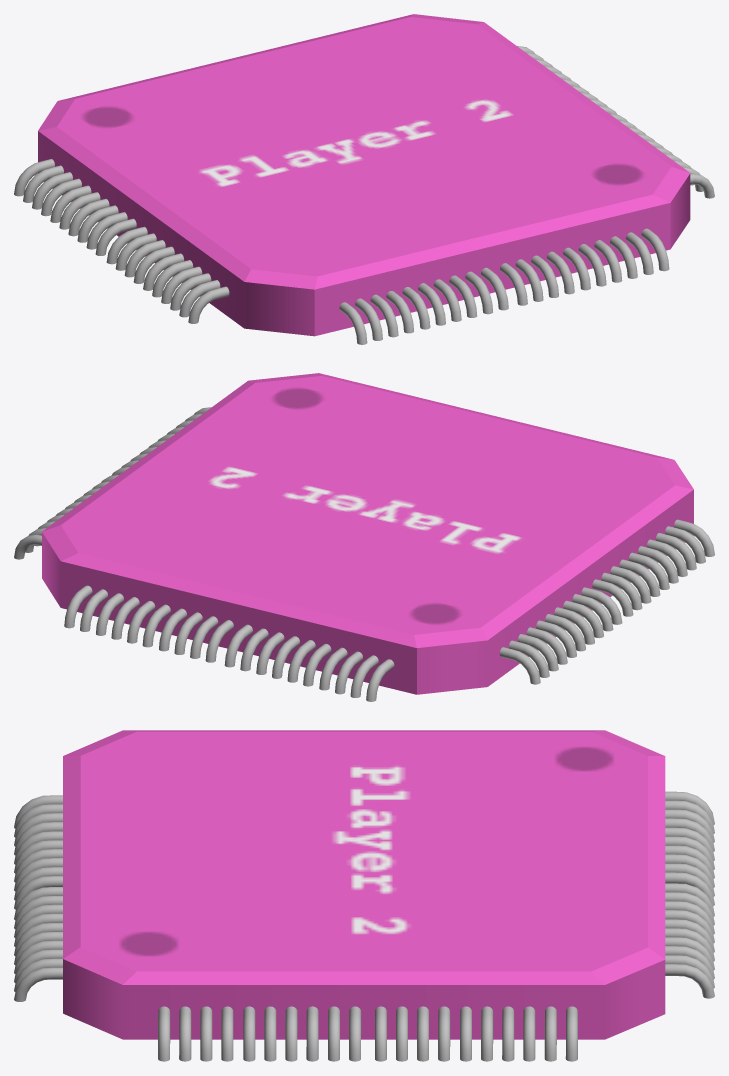
The model's file is Player2CPU.fbx.
3 renders of one model, top to bottom at view 1: azimuth 30°, elevation 25°; view 2: azimuth 150°, elevation 25°; view 3: azimuth 270°, elevation 25°, orthographic. The views are drawn at different scales.
Parts seen in each view (by area): view 1: polySurface5; view 2: polySurface5; view 3: polySurface5.
Boxes of the visible parts, x1,y1,x2,y2 form: polySurface5: (14, 14, 714, 344); polySurface5: (14, 373, 714, 701); polySurface5: (14, 730, 714, 1061).
Bounding box in the file's own units: 11.78 × 1.11 × 11.64.
5 materials, 1 textured.
